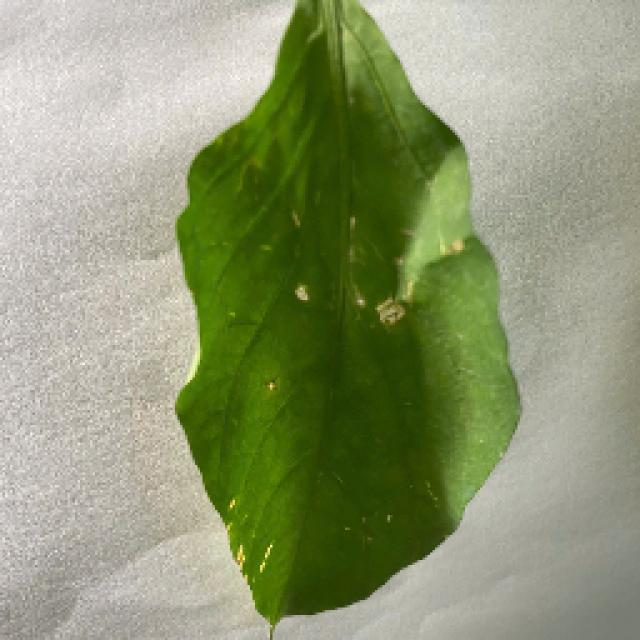Leaf: (169, 1, 515, 636)
